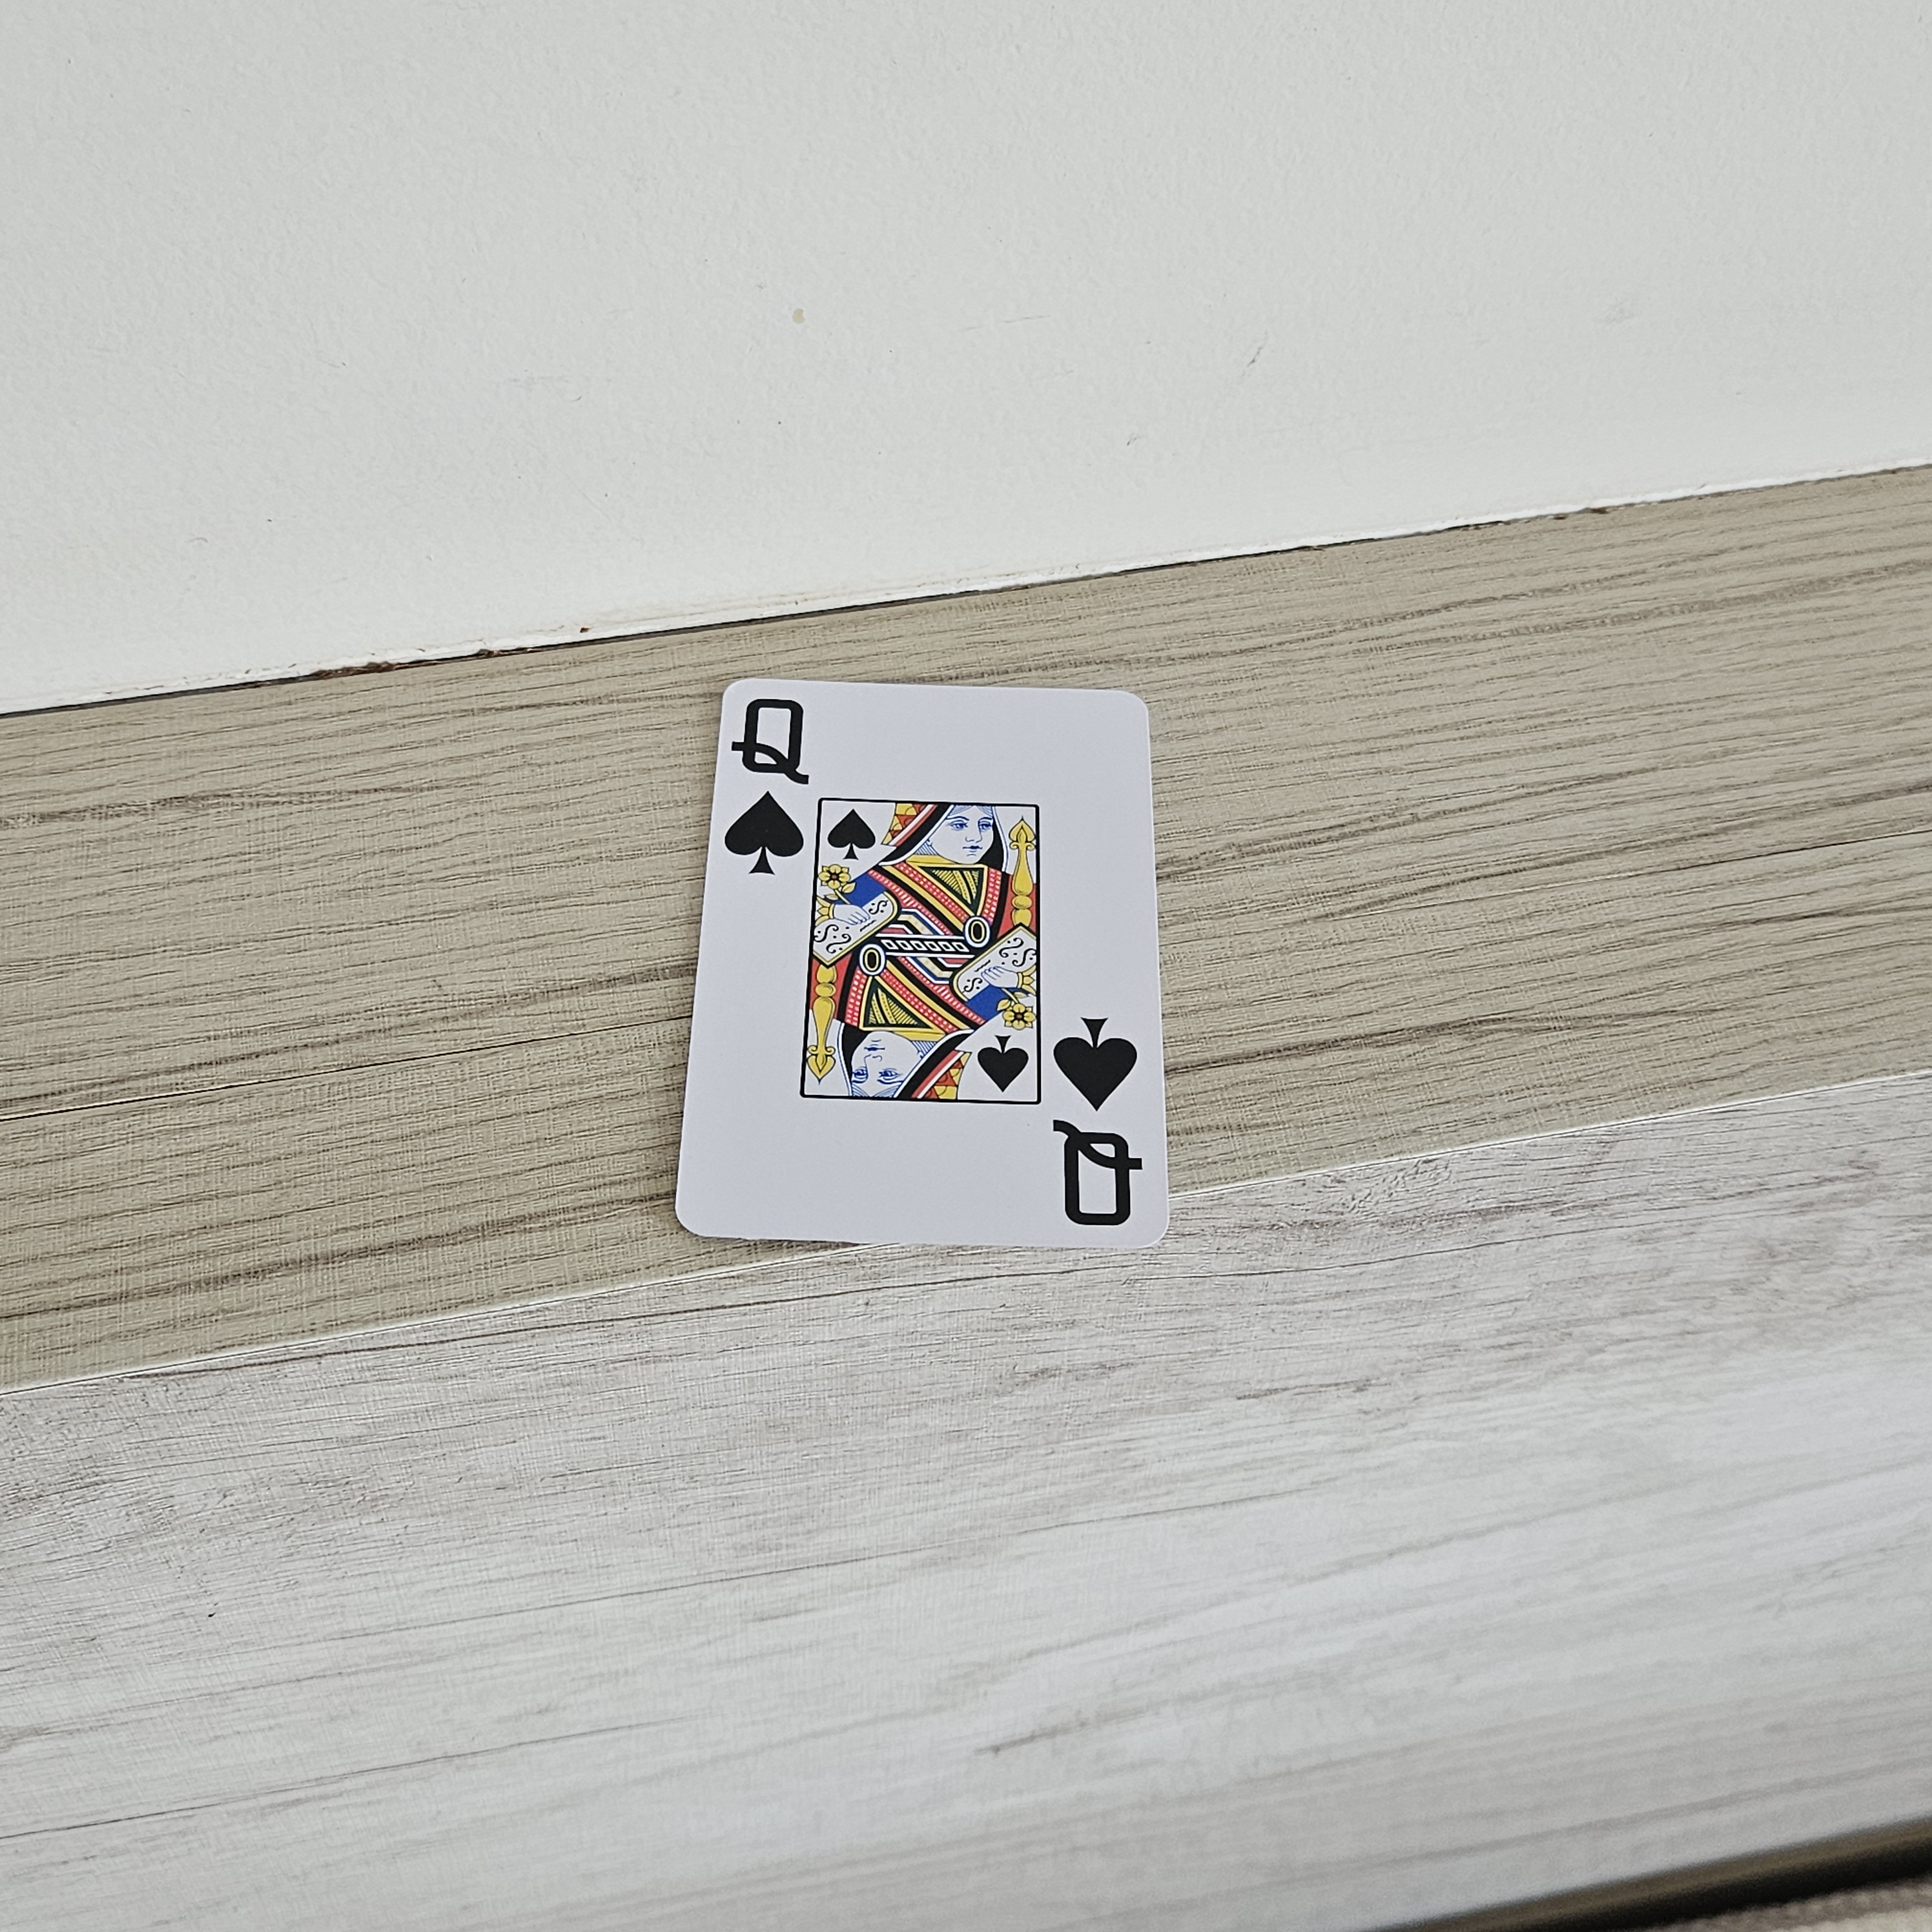QE: (1040, 1001, 1159, 1253), (720, 683, 812, 883)
